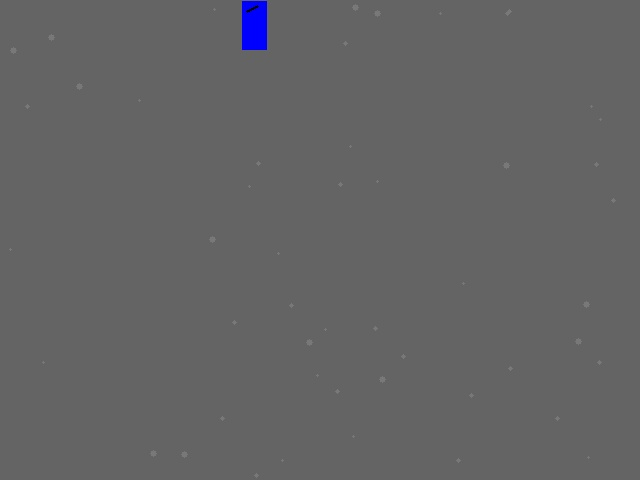motorcycle: (242, 1, 266, 49)
